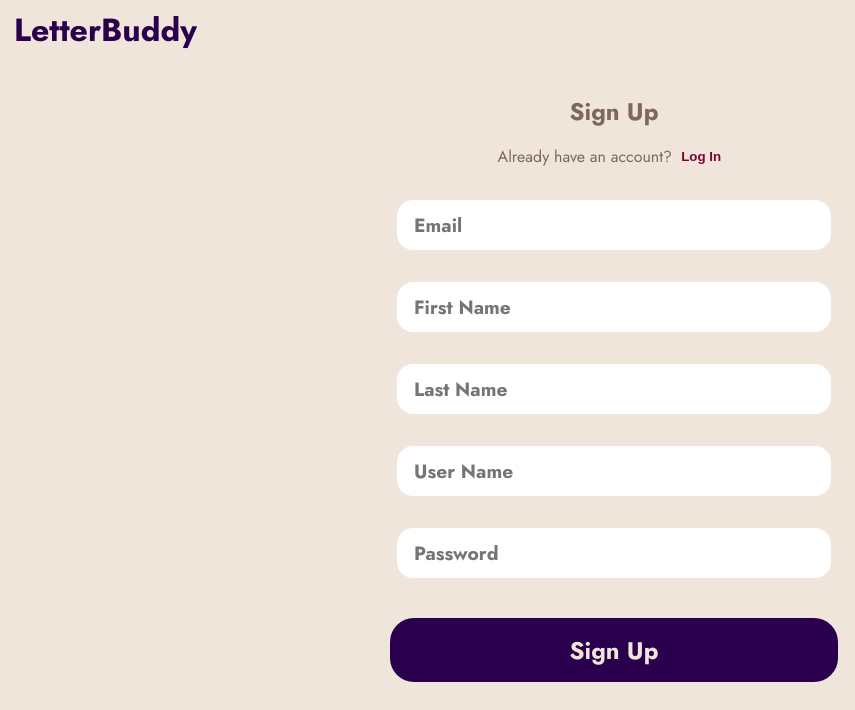
Test case: SignUp Form › should display validation errors for empty fields
This screenshot has width=855, height=710.
Click the submit button at (614, 650), box [390,618,838,682]
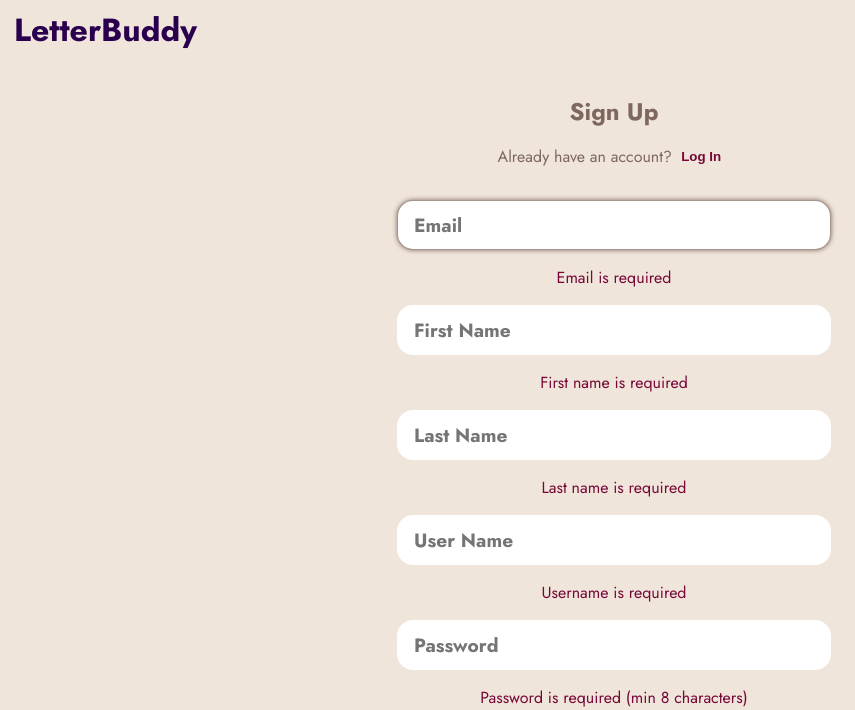
Check: the text "Email is required" is shown, box [557,266,671,289]
Check: the text "Username is required" is shown, box [542,581,686,604]
Check: the text "First name is required" is shown, box [540,371,688,394]
